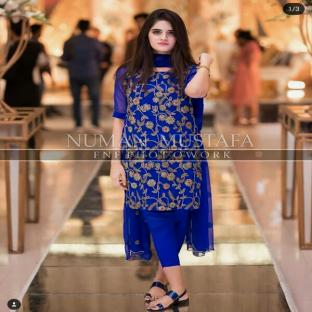Human: (111, 9, 213, 310)
